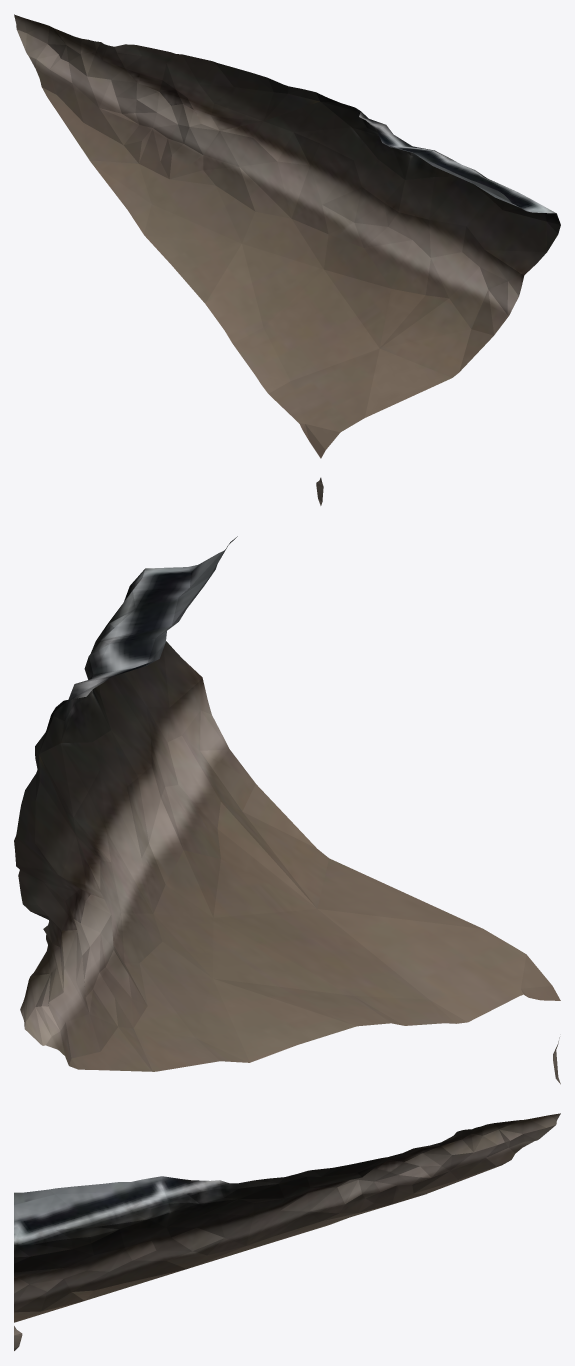
3 views of the same model, one above another, from view 1: azimuth 30°, elevation 25°; view 2: azimuth 150°, elevation 25°; view 3: azimuth 270°, elevation 25° (orthographic). The views are drawn at different scales.
Bounding box in the file's own units: 0.5706 × 0.6075 × 1.26.
1 material, 1 textured.
